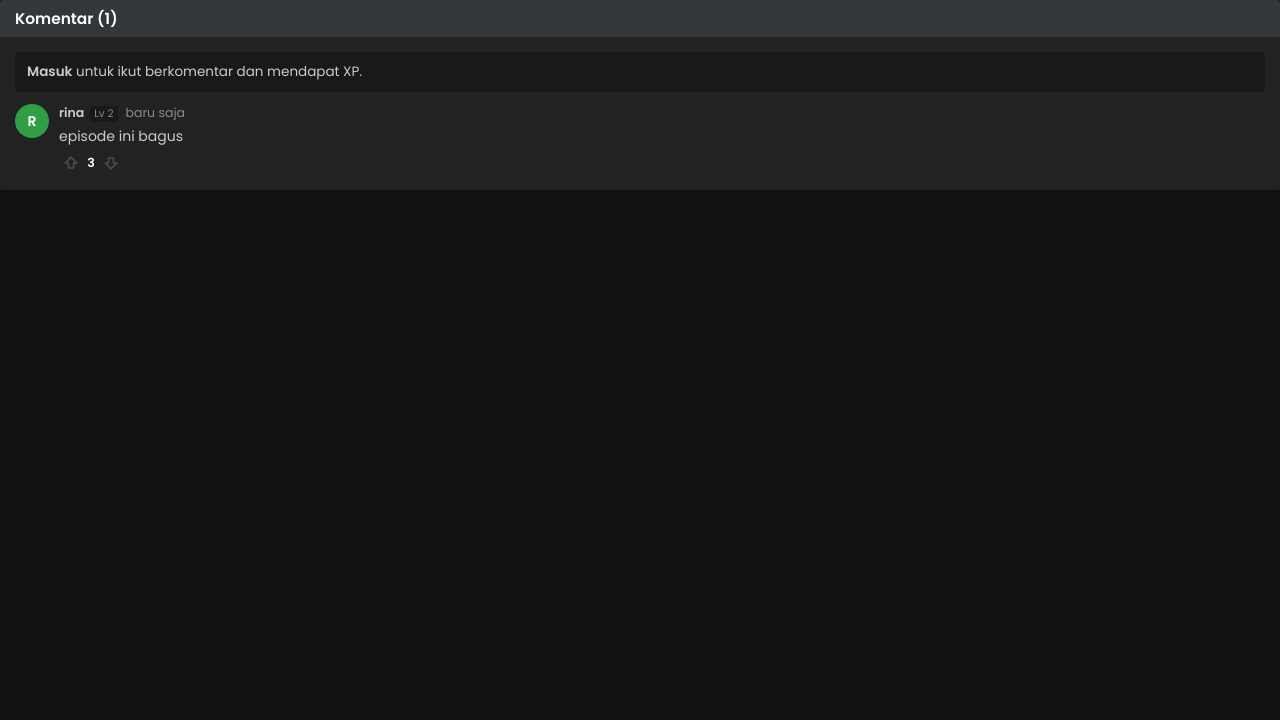
Comments › opens the author profile card when the avatar is clicked
Expected: the text "episode ini bagus" is shown, 59,126 -> 183,146
Click the button named "Profil rina" at (32, 121), box 15,104 -> 49,138
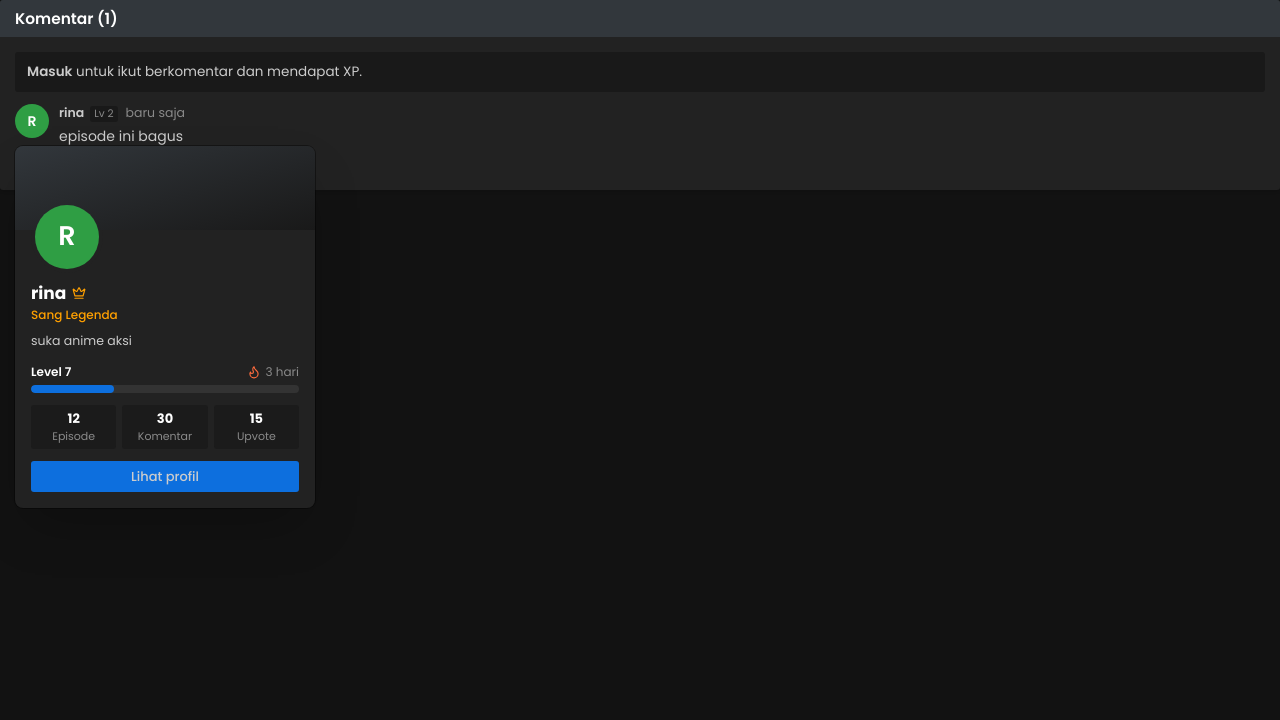
Now the text "suka anime aksi" is shown, box 31,332 -> 132,349
Now the text "Sang Legenda" is shown, box 31,306 -> 118,323
Press Escape
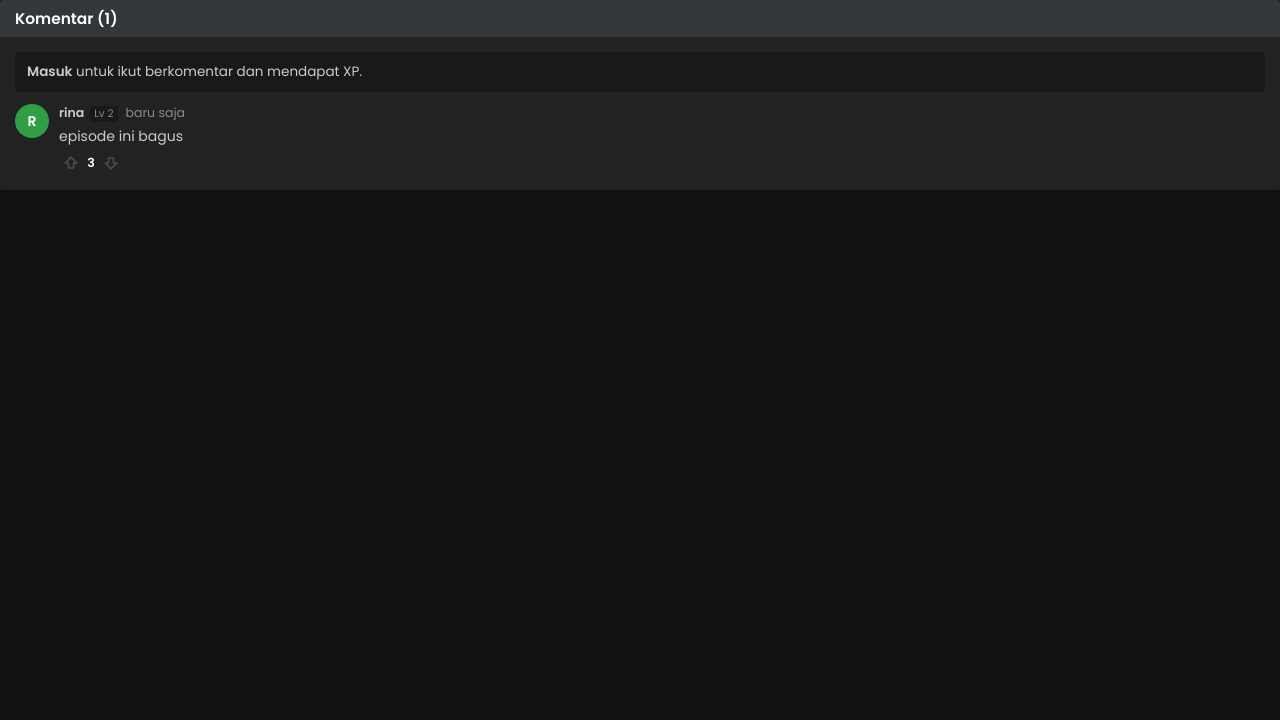
Now the text "suka anime aksi" is gone
